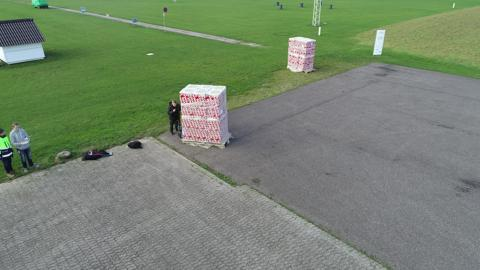RockwoolPallet: (180, 83, 230, 144)
